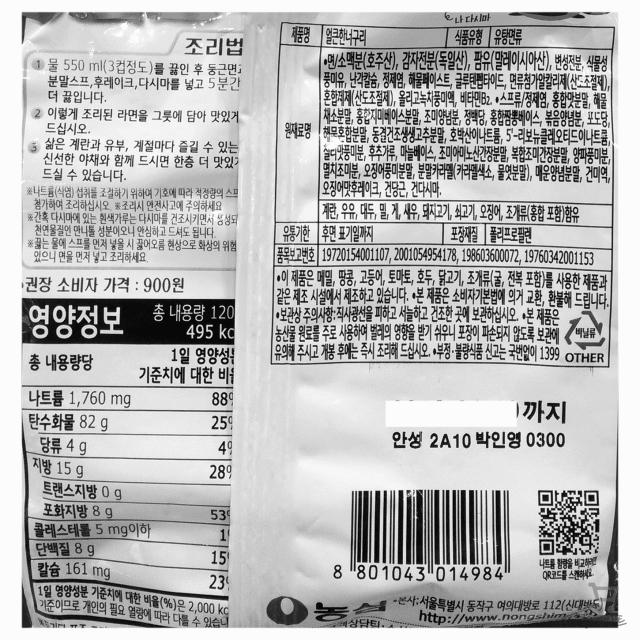Nutrition Label: (16, 291, 242, 636)
